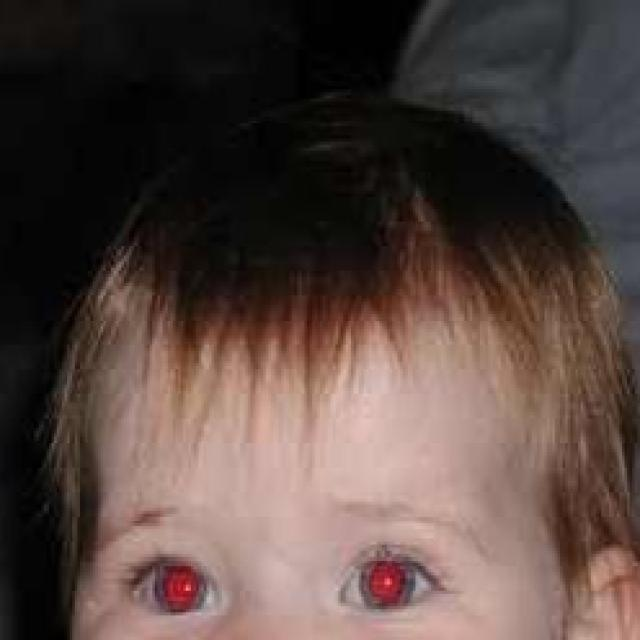reflexo-normal: (326, 527, 459, 624), (117, 551, 239, 627)
